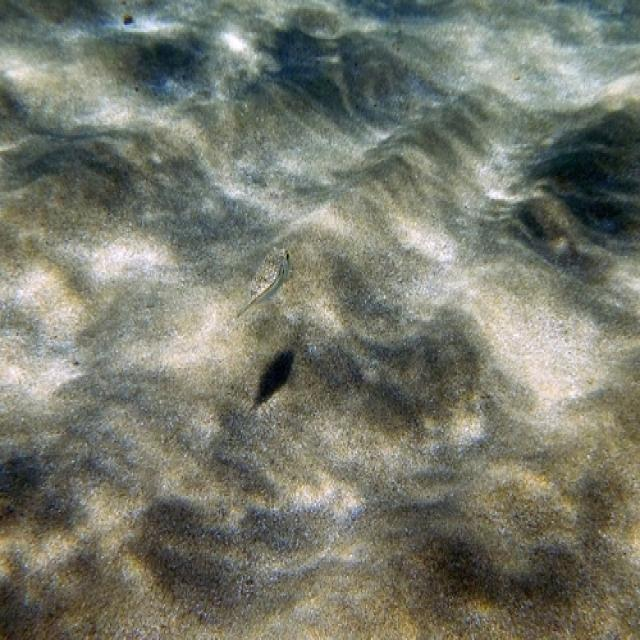Balik: (237, 249, 290, 318)
